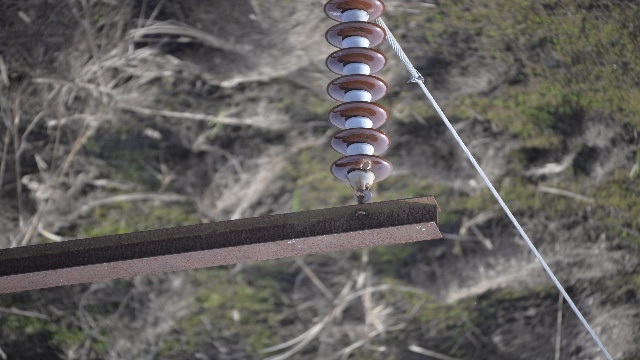insulator_unspecified: (324, 0, 394, 184)
pollution_flashover_local: (359, 158, 372, 172), (366, 8, 377, 16), (329, 11, 342, 16)
